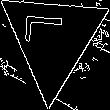L_E: (29, 22, 76, 57)
